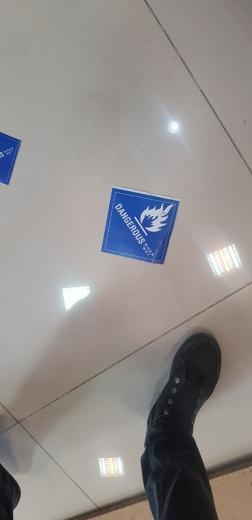Dangerous when wet: (101, 187, 180, 264), (1, 132, 21, 185)
